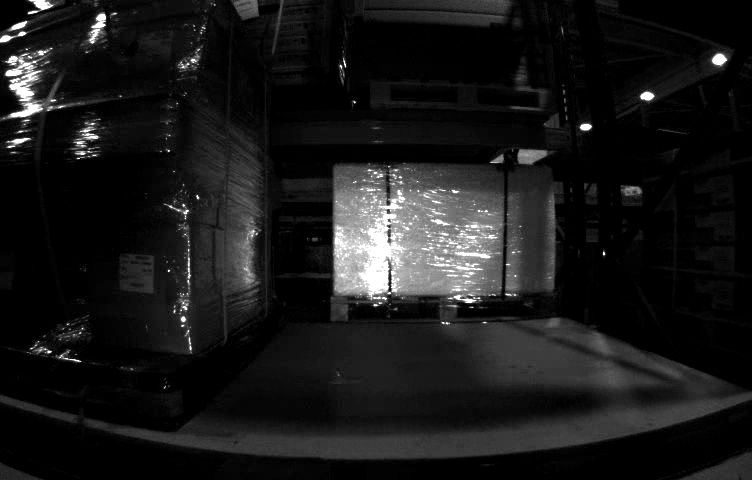True Barcode: (119, 251, 158, 299)
